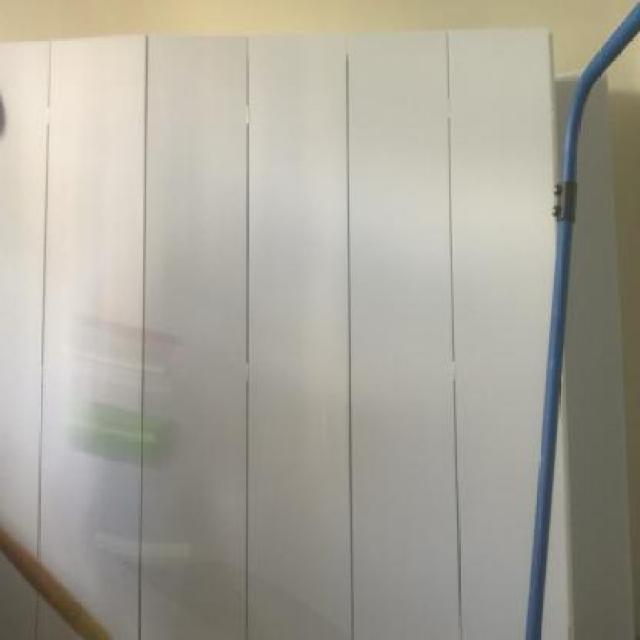baseball: (71, 383, 177, 485)
